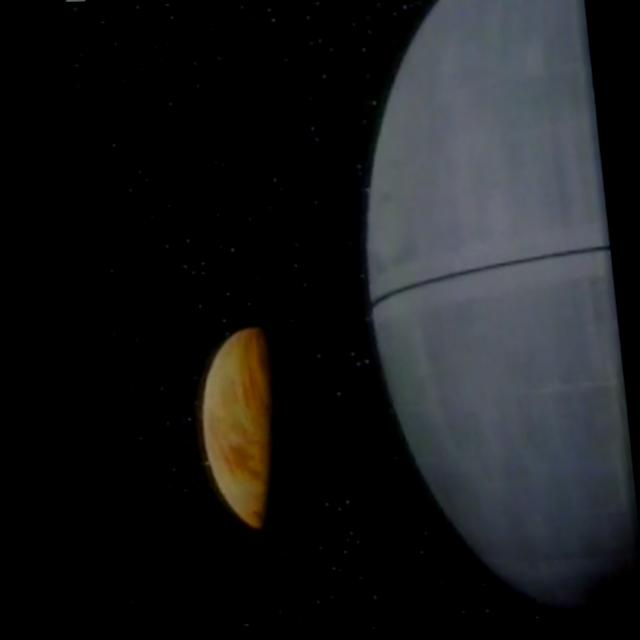deathStar: (336, 0, 633, 623)
